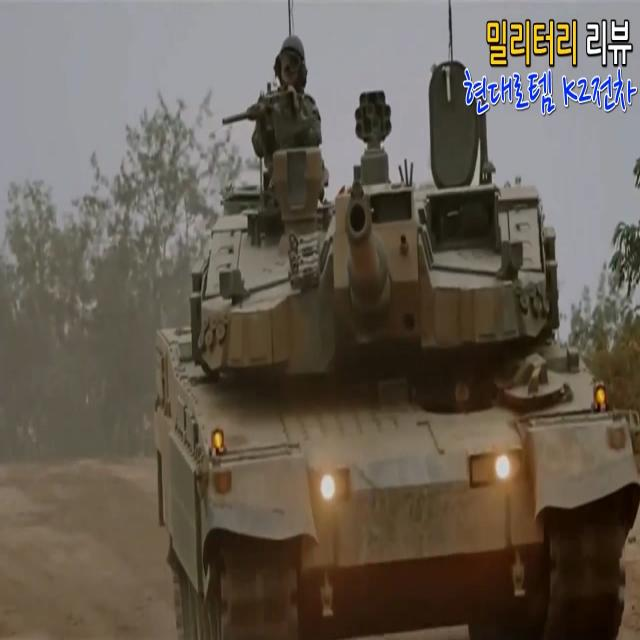korea tank: (156, 35, 640, 640)
